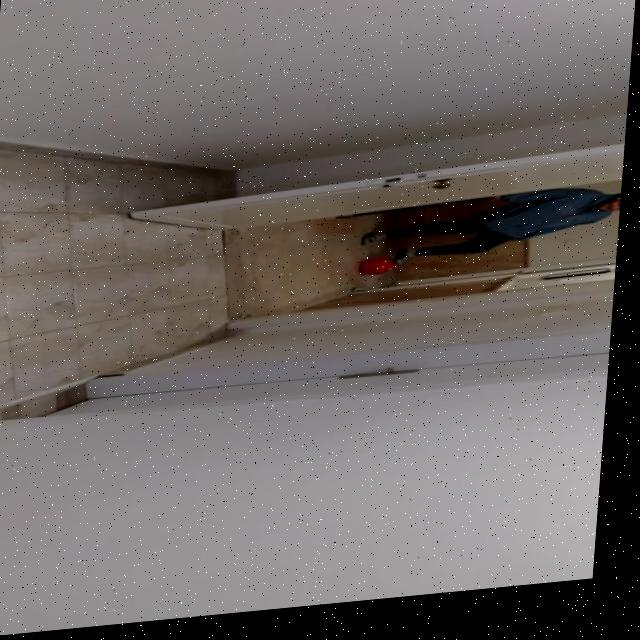balloon: (364, 263, 407, 286)
